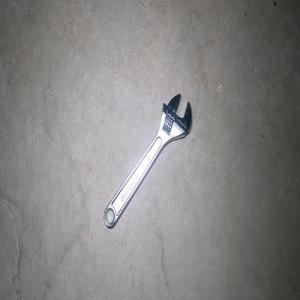Wrench: (103, 93, 191, 228)
